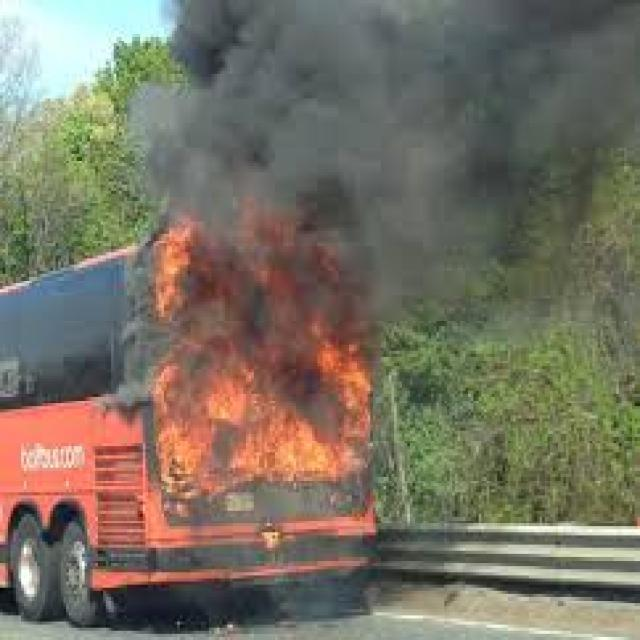Fire: (151, 270, 374, 507)
Smoke: (166, 0, 640, 255)
